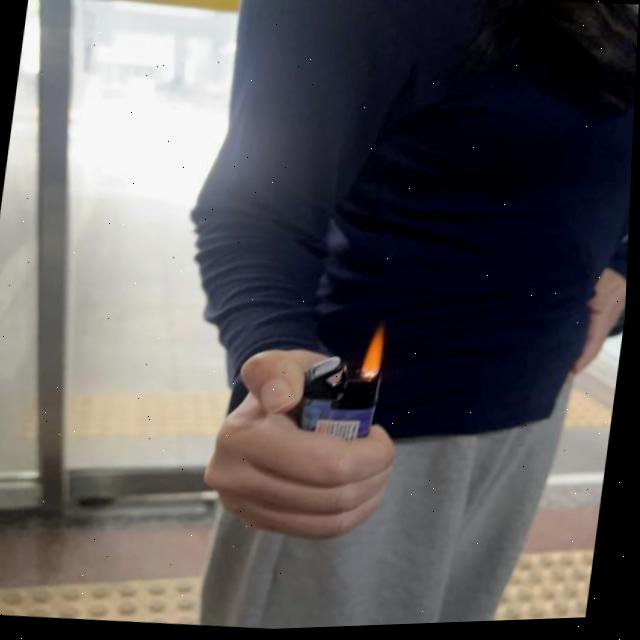Fire: (362, 325, 391, 383)
